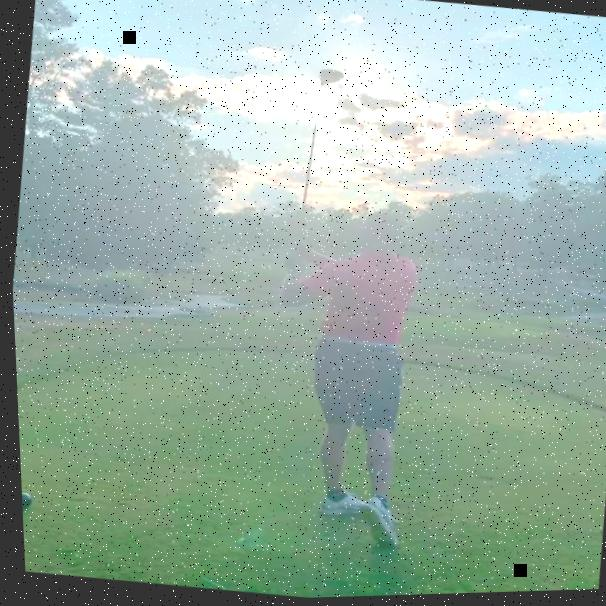ClubHead: (317, 70, 344, 90)
